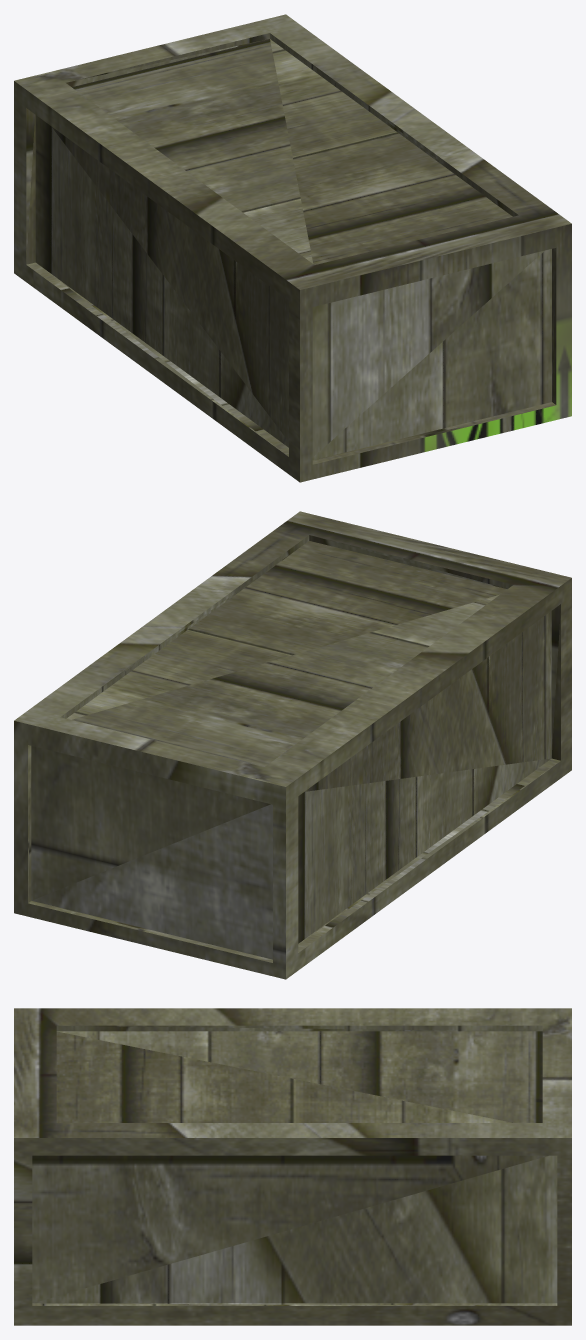
Rendered from Big Box.fbx.
3 views of the same model, one above another, from view 1: azimuth 30°, elevation 25°; view 2: azimuth 150°, elevation 25°; view 3: azimuth 270°, elevation 25° (orthographic). The views are drawn at different scales.
Visible parts, largest first — view 1: Big_Box; view 2: Big_Box; view 3: Big_Box.
Boxes of the visible parts, left/top/right/bottom form: Big_Box: left=14, top=14, right=571, bottom=482; Big_Box: left=14, top=511, right=571, bottom=979; Big_Box: left=14, top=1008, right=571, bottom=1325.
Size of the model in its own units: 370 by 250 by 674.
